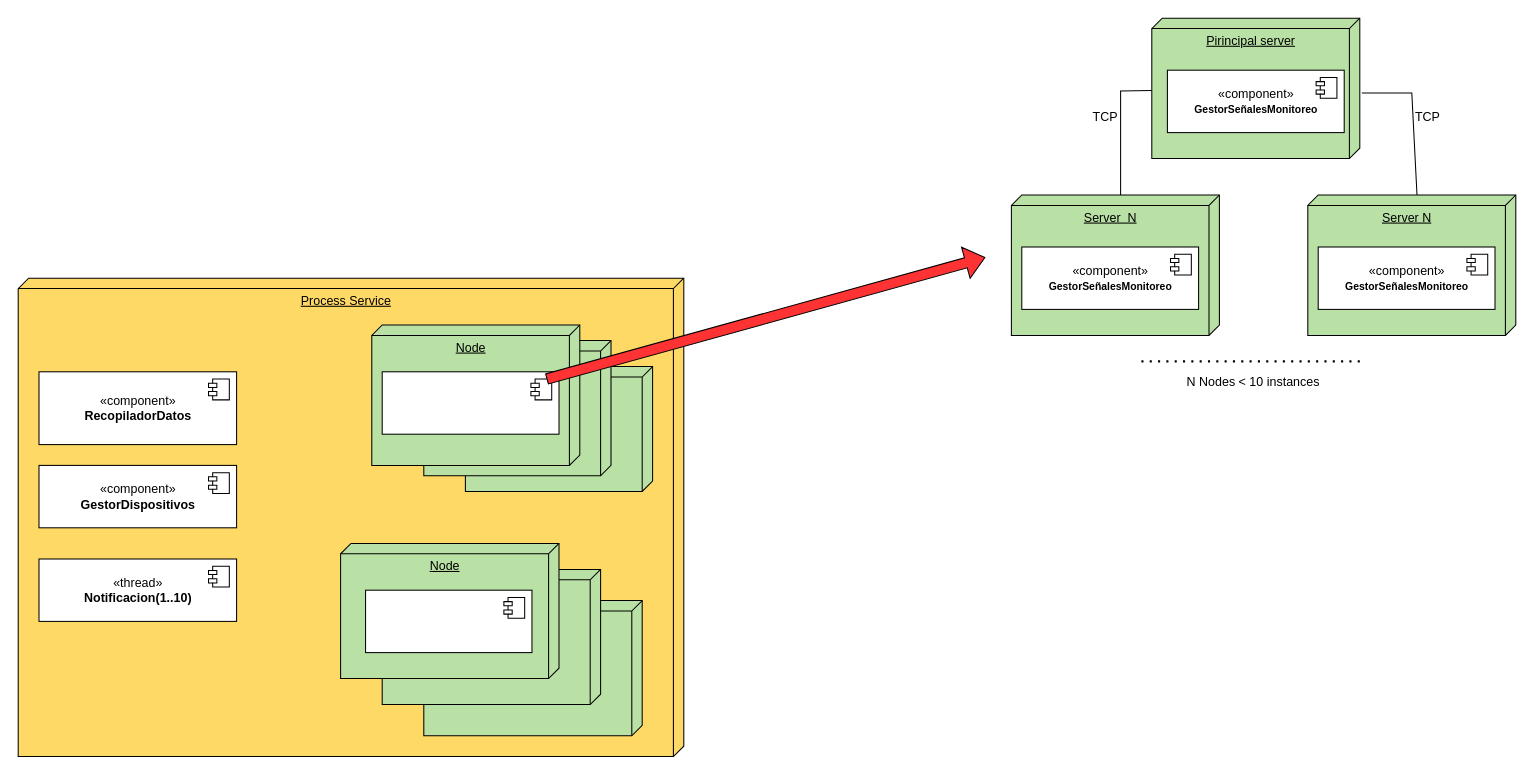
Image size: 1534x775. Some labels were removed from this diagram. Here are the shapes that lost their labels. From the top down, the centre of each, then its label:
At point 470,402: "«thread» GestorSeñalesMonitoreo(1..20)".
At point 448,621: "«thread» GestorUbicacion(1..20)".
